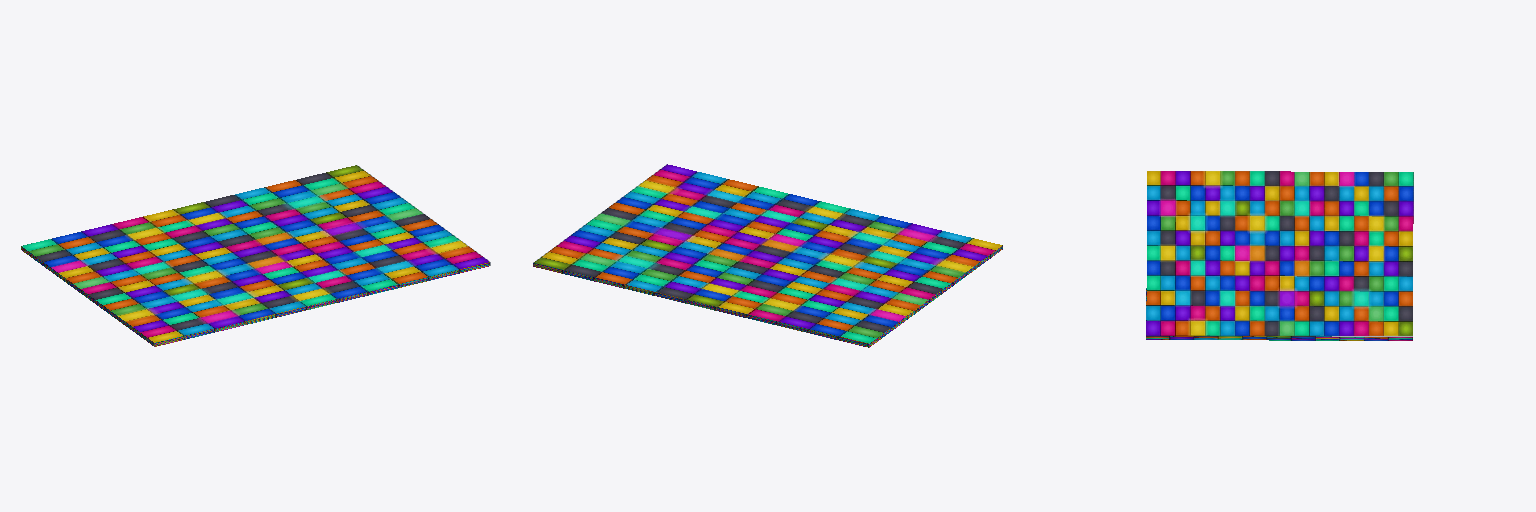
3 renders of one model, left to right at view 1: azimuth 30°, elevation 25°; view 2: azimuth 150°, elevation 25°; view 3: azimuth 270°, elevation 25°, orthographic.
Visible parts, largest first — view 1: Floor; view 2: Floor; view 3: Floor.
Boxes of the visible parts, box(x1,y1,x2,y2) form: Floor: box(21, 165, 490, 346); Floor: box(533, 164, 1002, 347); Floor: box(1146, 171, 1413, 340).
Size of the model in its own units: 19.39 by 0.3203 by 13.34.
Materials: 1 (1 with a texture image).